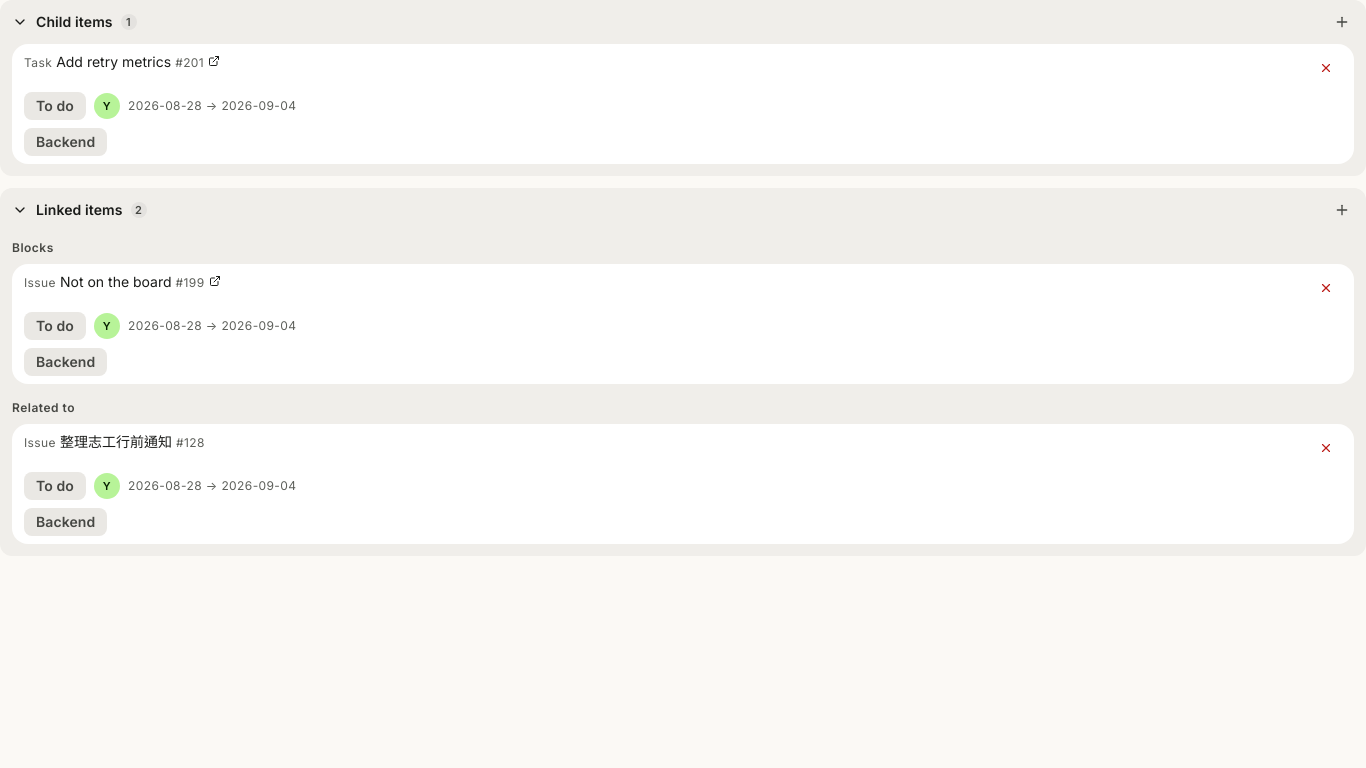
Scenario: CardRelationships › detaches a child without deleting the work item
The width and height of the screenshot is (1366, 768).
Expected: the text "Add retry metrics" is shown, [56,52,171,72]
Click the button named "解除 Child item #201" at x=1326, y=68, box [1310,52,1342,84]
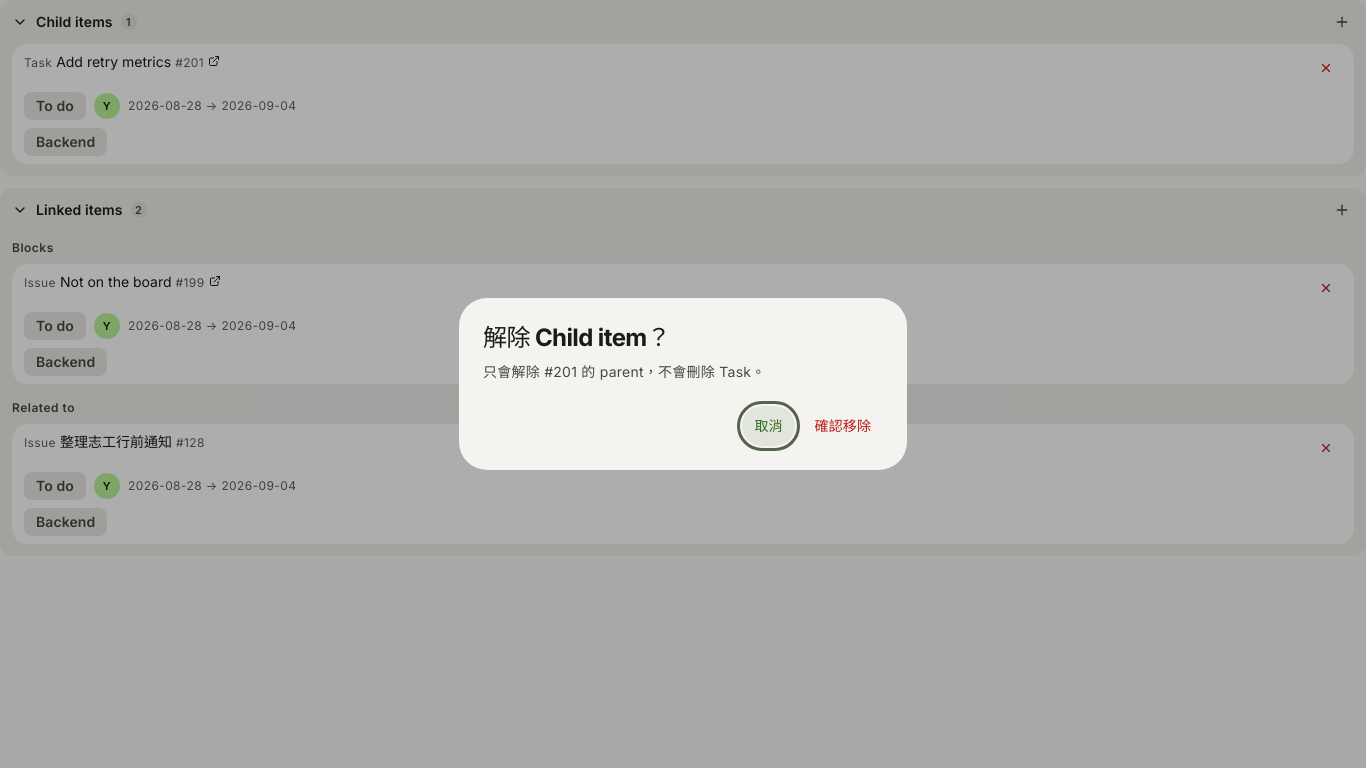
Now the dialog "解除 Child item？" shows "不會刪除 Task", box [483,363,766,380]
Click the button "確認移除" at x=843, y=426, box [803,406,883,446]
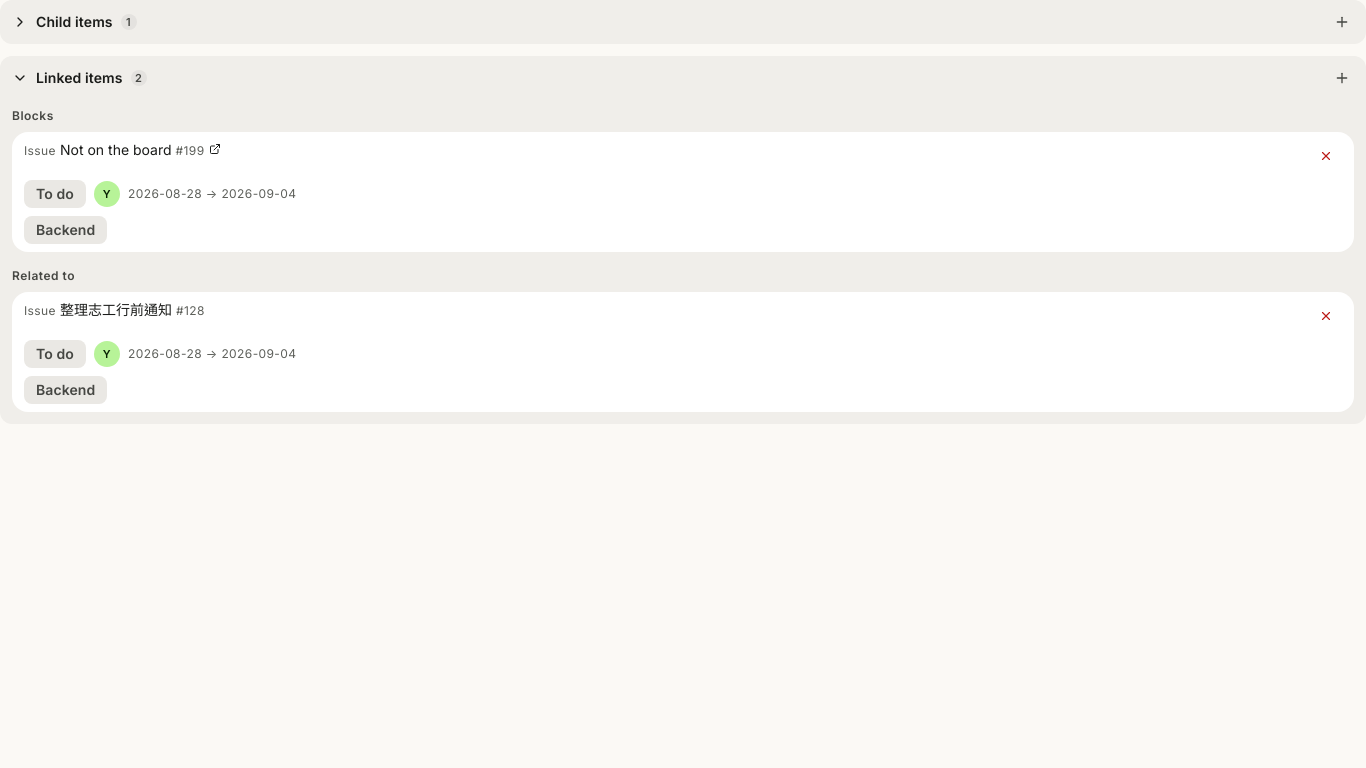
Now the link "Add retry metrics" is gone
Now the heading "解除 Child item？" is gone
